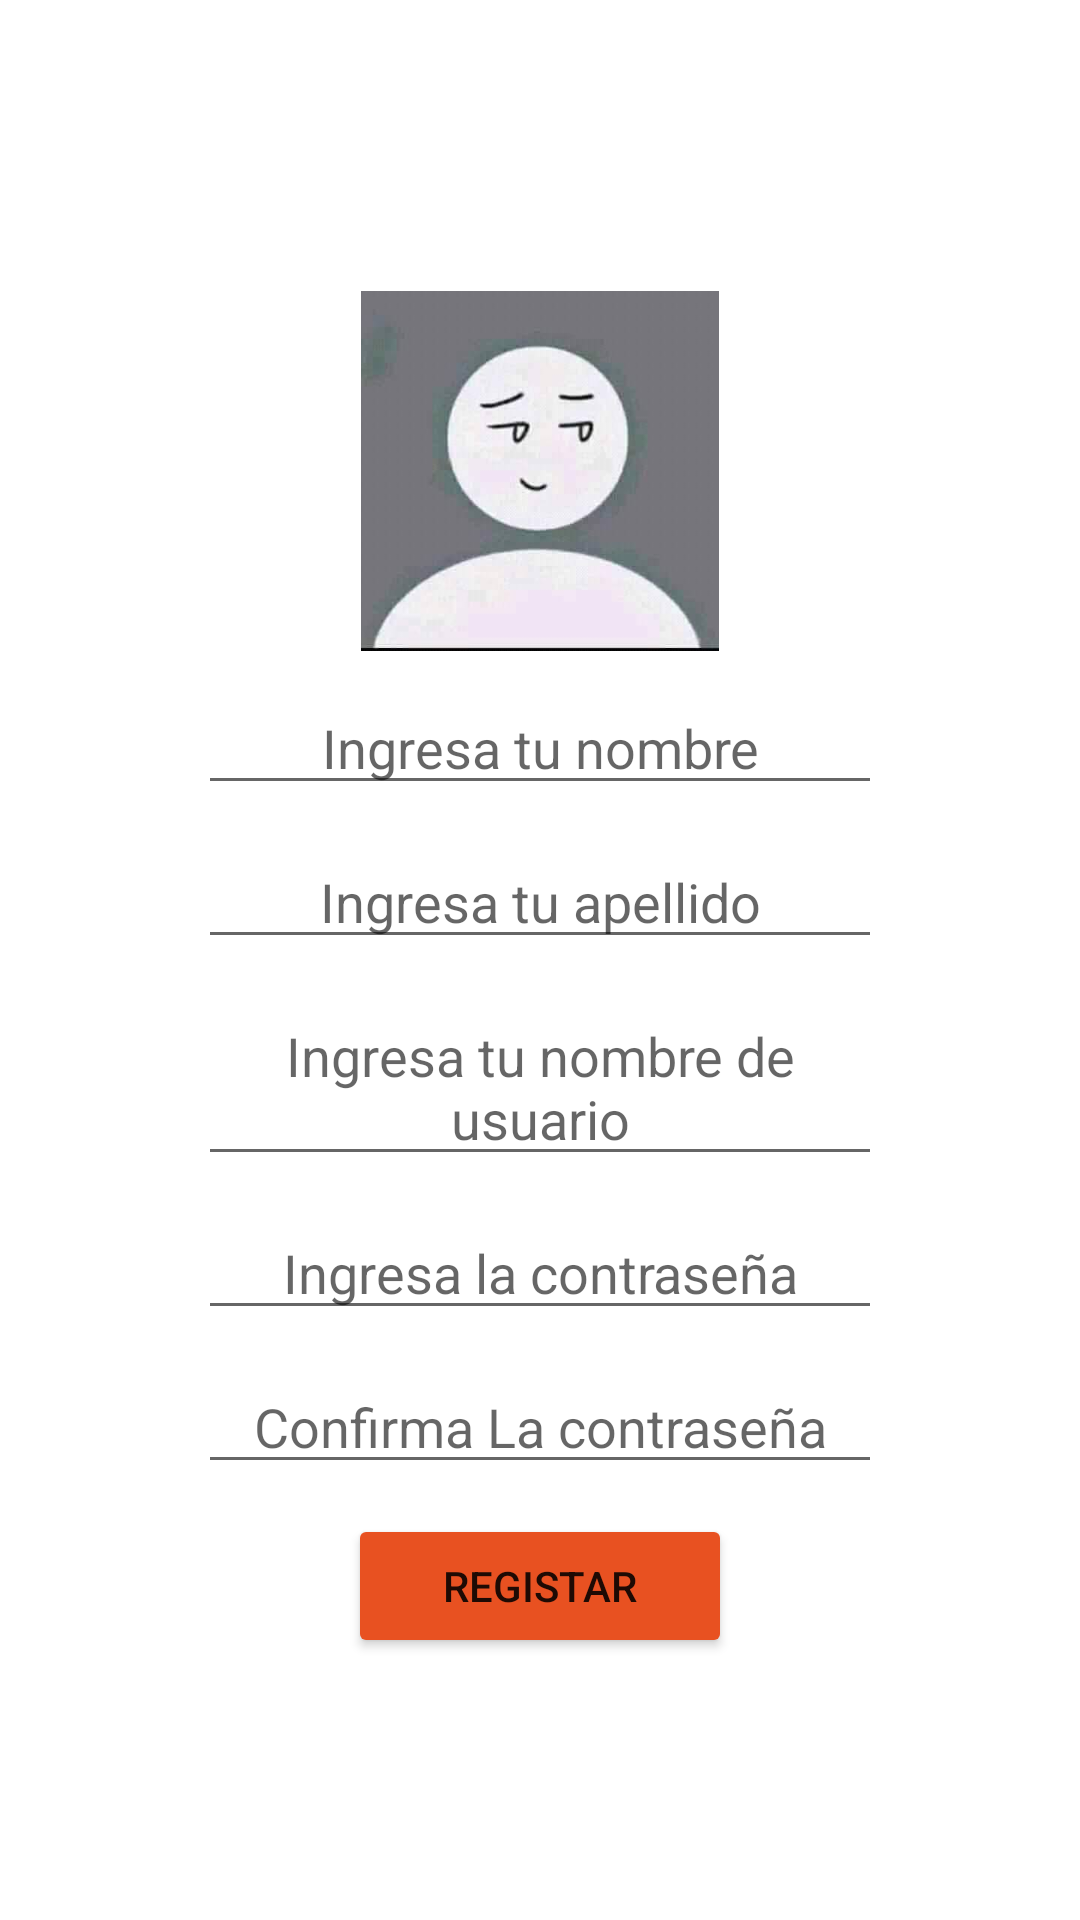

Named icons in this screenshot (1080px x 1920px) and their centers, point (x, y):
porfile: point (540, 471)
